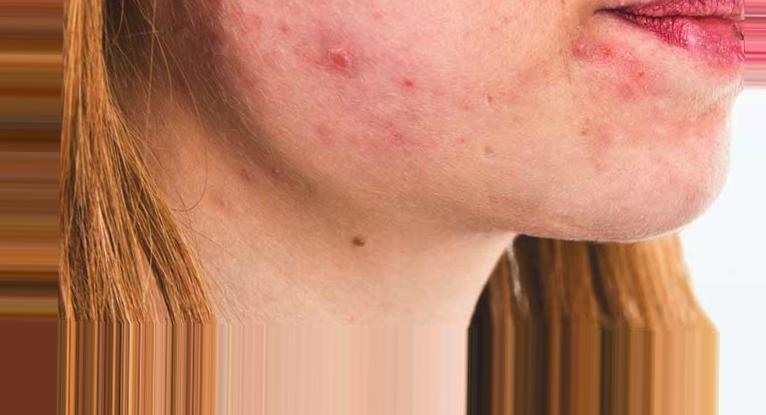Acne: (573, 35, 655, 100), (328, 32, 369, 92)
